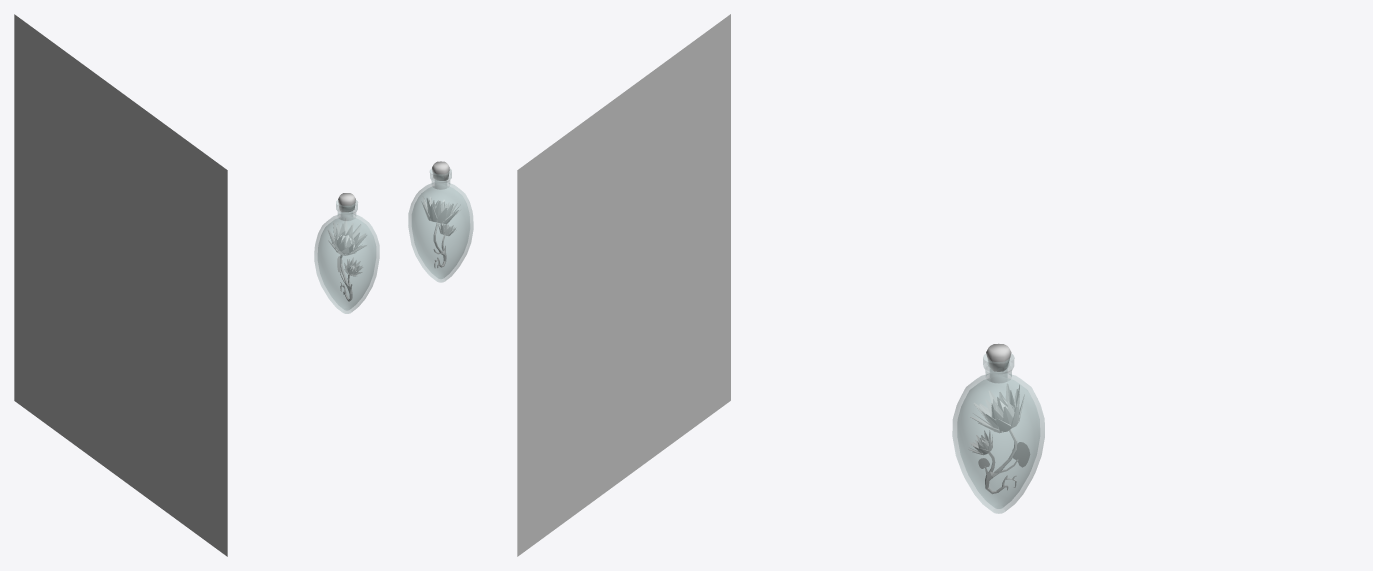
File: garrafinha_flor(1).glb
The picture shows the model from 3 angles, left to right: view 1: azimuth 30°, elevation 25°; view 2: azimuth 150°, elevation 25°; view 3: azimuth 270°, elevation 25°; orthographic projection. The views are drawn at different scales.
Parts seen in each view (by area): view 1: wall1, garrafa, Flor; view 2: wall1, garrafa, Flor; view 3: garrafa, Flor, Plant.
Boxes of the visible parts, x1=… form: wall1: x1=14, y1=14, x2=227, y2=556; garrafa: x1=314, y1=200, x2=379, y2=313; Flor: x1=328, y1=218, x2=366, y2=255; wall1: x1=517, y1=14, x2=730, y2=556; garrafa: x1=408, y1=168, x2=473, y2=282; Flor: x1=422, y1=196, x2=460, y2=223; garrafa: x1=952, y1=354, x2=1044, y2=513; Flor: x1=970, y1=383, x2=1024, y2=433; Plant: x1=978, y1=429, x2=1030, y2=493.
Size of what is drawn, in the model's own units: 3.14 by 4.98 by 4.98.
